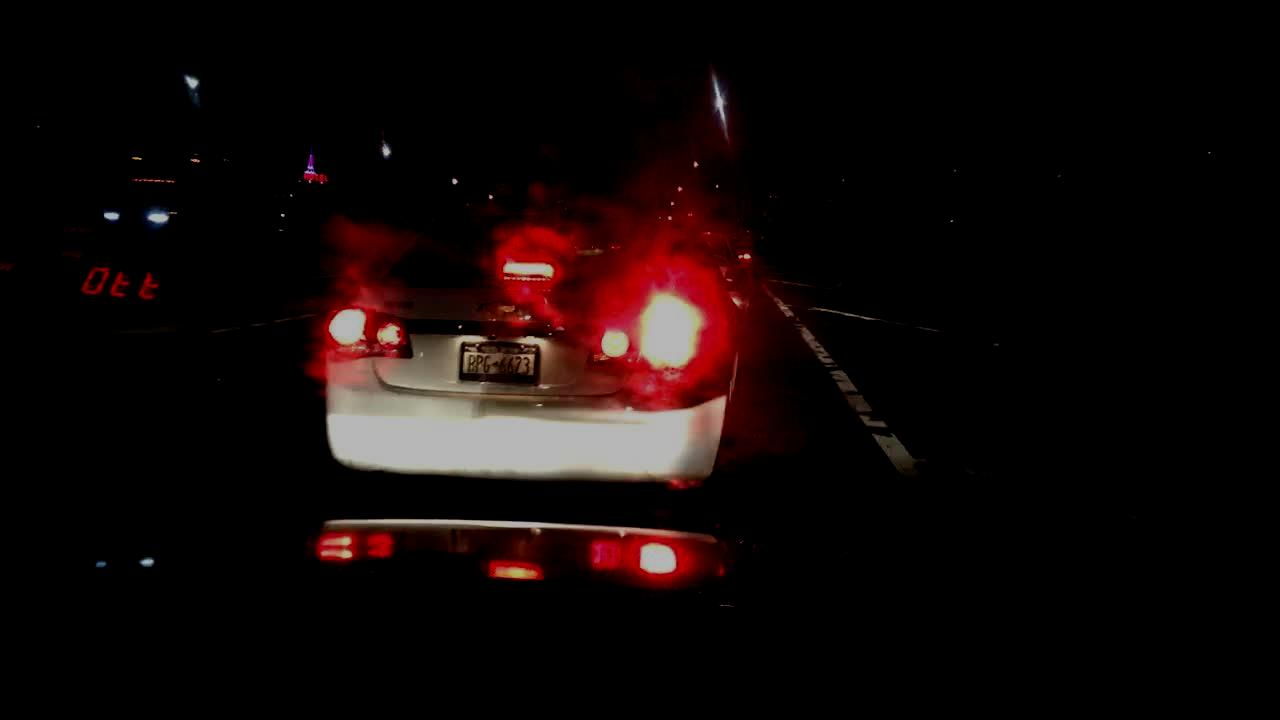chevrolet: (472, 298, 522, 322)
